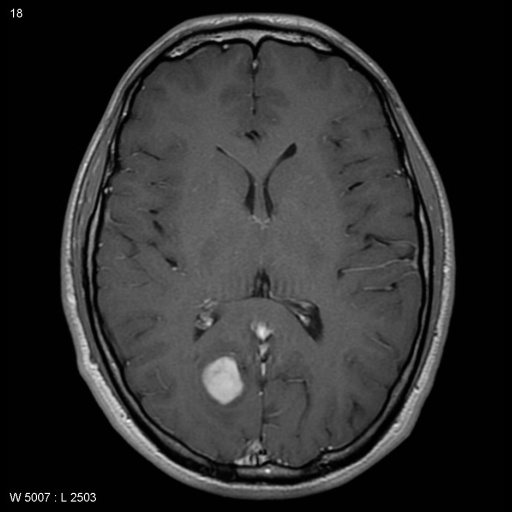tumor: (197, 352, 248, 409)
